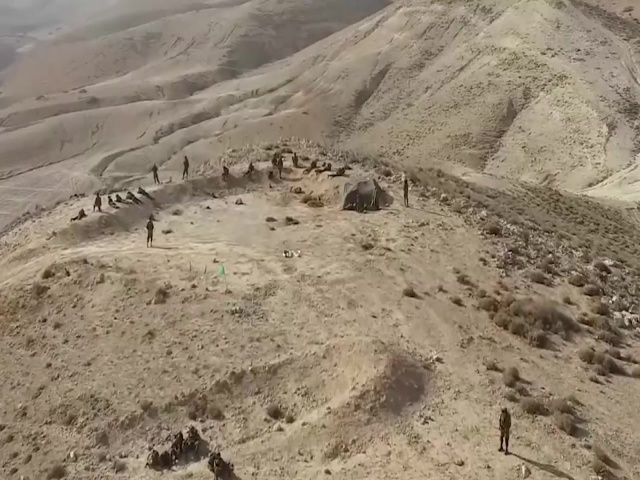person: (495, 405, 511, 456), (401, 175, 411, 210), (145, 215, 154, 248), (125, 191, 144, 206), (137, 187, 157, 201), (69, 208, 88, 222), (115, 193, 133, 207), (326, 168, 346, 180), (302, 160, 318, 174), (92, 193, 103, 213), (243, 161, 255, 179), (106, 196, 120, 211), (182, 156, 190, 181), (151, 163, 160, 185), (277, 156, 283, 180), (290, 152, 299, 168)
